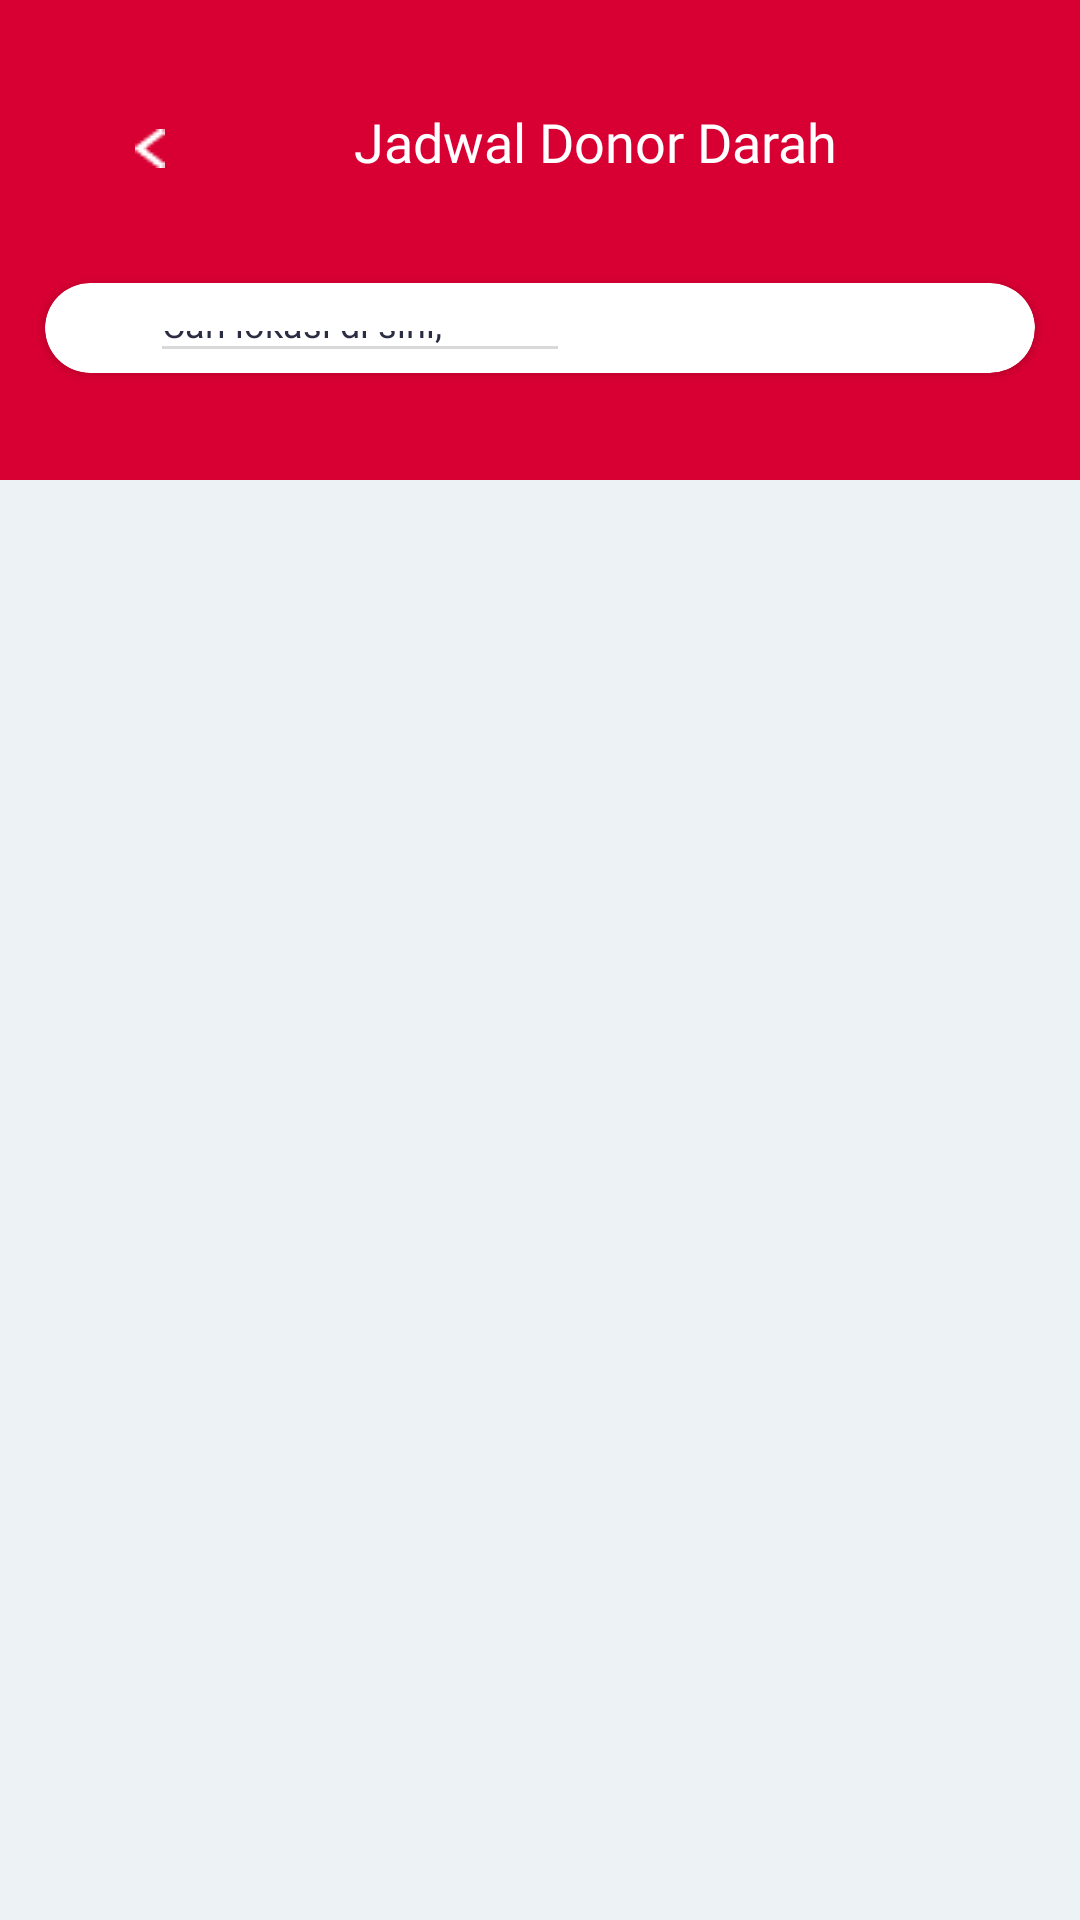

Named icons in this screenshot (1080x1920) and their bounding boxes, (x1, y1, x2, y2):
back: (135, 129, 165, 168)
